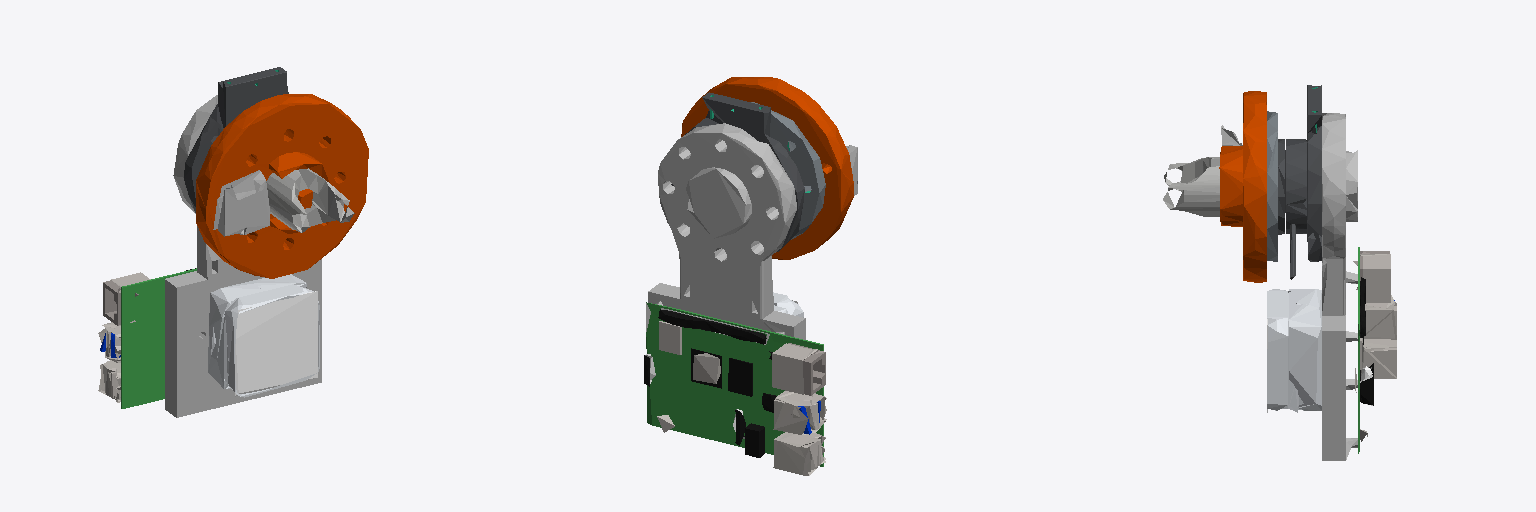
Rendered from cj_cam_mount_V2.obj.
The picture shows the model from 3 angles: view 1: azimuth 30°, elevation 25°; view 2: azimuth 150°, elevation 25°; view 3: azimuth 270°, elevation 25°; orthographic projection.
Size of the model in its own units: 0.0962 by 0.15 by 0.0979.